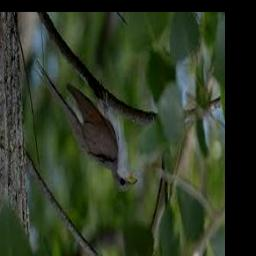Cuckoo: (33, 58, 138, 193)
